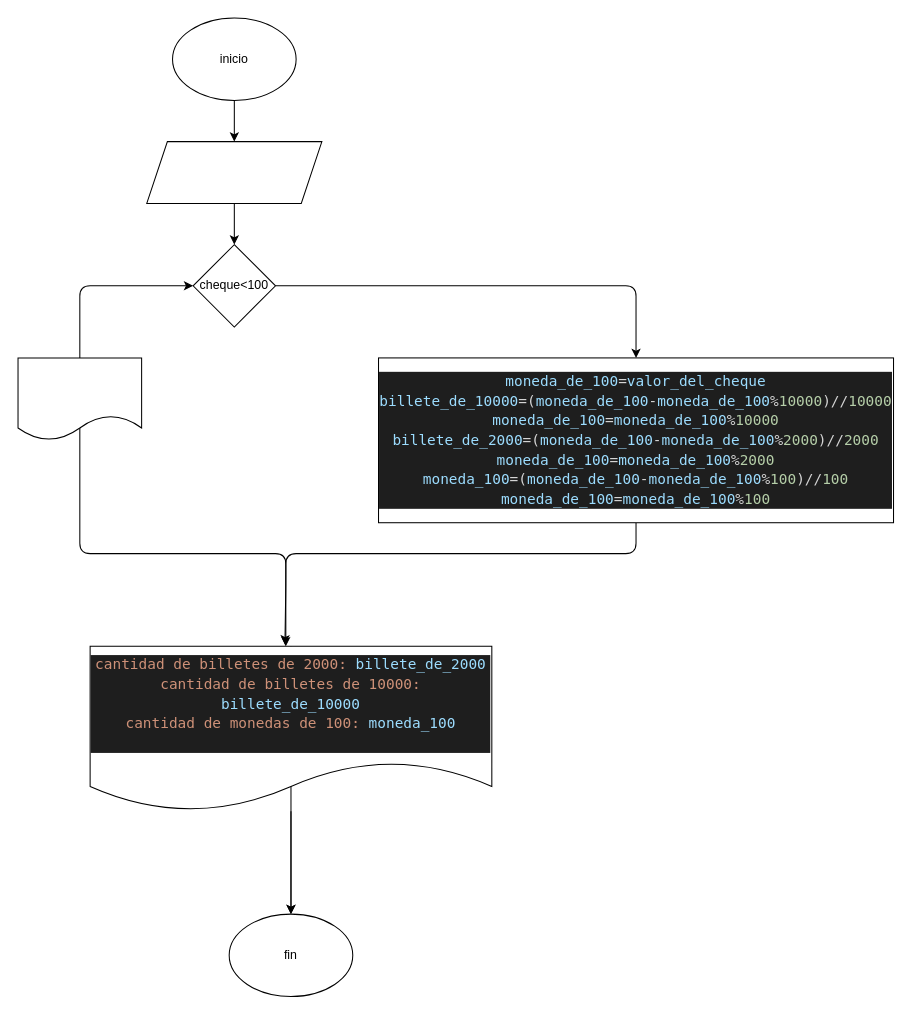
Some shapes in this 912 by 1015 pixel diagram are drawn without their labels. Here are the shapes that lost their labels. From the top down, the box of each, then its label:
(146, 141, 322, 203): ingrese el valor del cheque
(17, 357, 142, 440): Error
